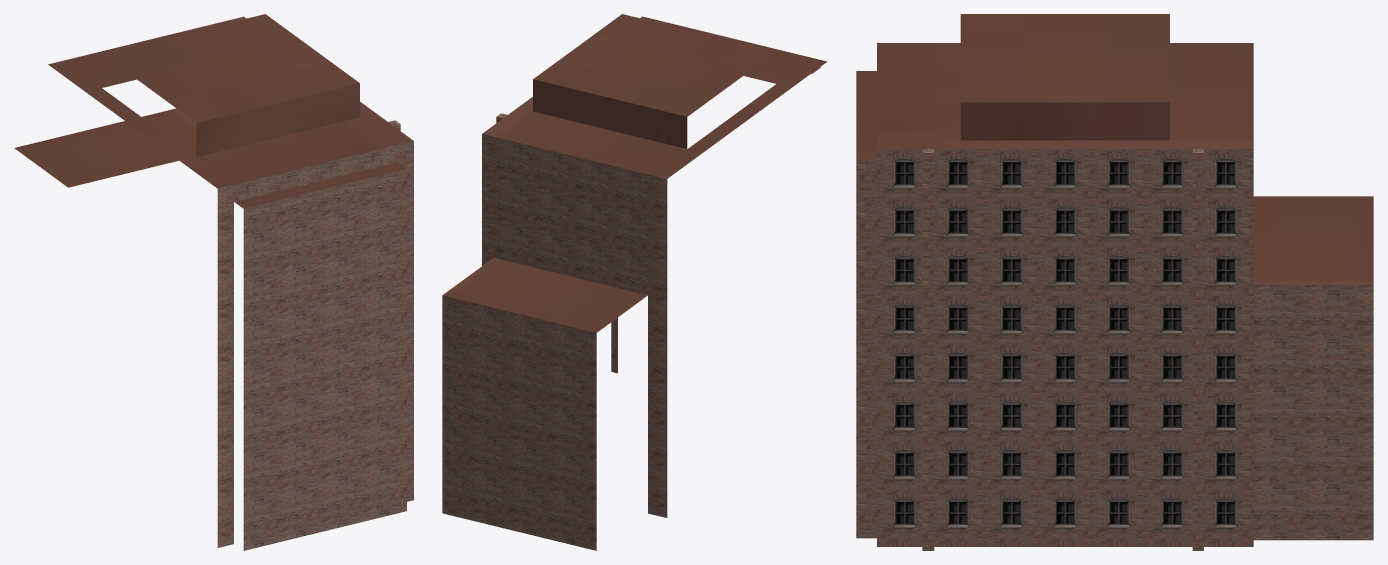
3 views of the same model, side by side, from view 1: azimuth 30°, elevation 25°; view 2: azimuth 150°, elevation 25°; view 3: azimuth 270°, elevation 25° (orthographic). The views are drawn at different scales.
Parts seen in each view (by area): view 1: body0_model0_lod0_mesh0, body0_model0_lod0_mesh1; view 2: body0_model0_lod0_mesh0, body0_model0_lod0_mesh1; view 3: body0_model0_lod0_mesh2, body0_model0_lod0_mesh1, body0_model0_lod0_mesh0.
Part boxes in pixels (left/top/right/bottom): body0_model0_lod0_mesh0: left=217, top=141, right=413, bottom=550; body0_model0_lod0_mesh1: left=14, top=14, right=413, bottom=208; body0_model0_lod0_mesh0: left=442, top=134, right=667, bottom=550; body0_model0_lod0_mesh1: left=443, top=14, right=826, bottom=332; body0_model0_lod0_mesh2: left=877, top=149, right=1253, bottom=550; body0_model0_lod0_mesh1: left=856, top=14, right=1373, bottom=284; body0_model0_lod0_mesh0: left=856, top=159, right=1373, bottom=540.
Size of the model in its own units: 49.76 by 92 by 99.
3 materials, 3 textured.
